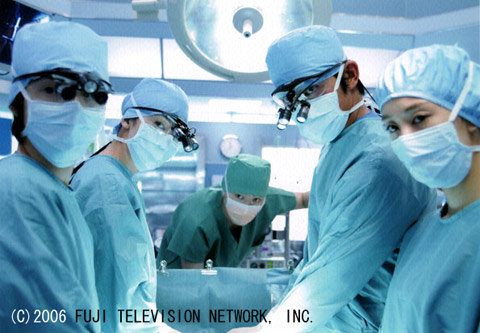mask: (23, 101, 105, 168), (393, 123, 475, 189), (292, 93, 347, 143), (127, 125, 179, 173), (225, 198, 263, 225)
